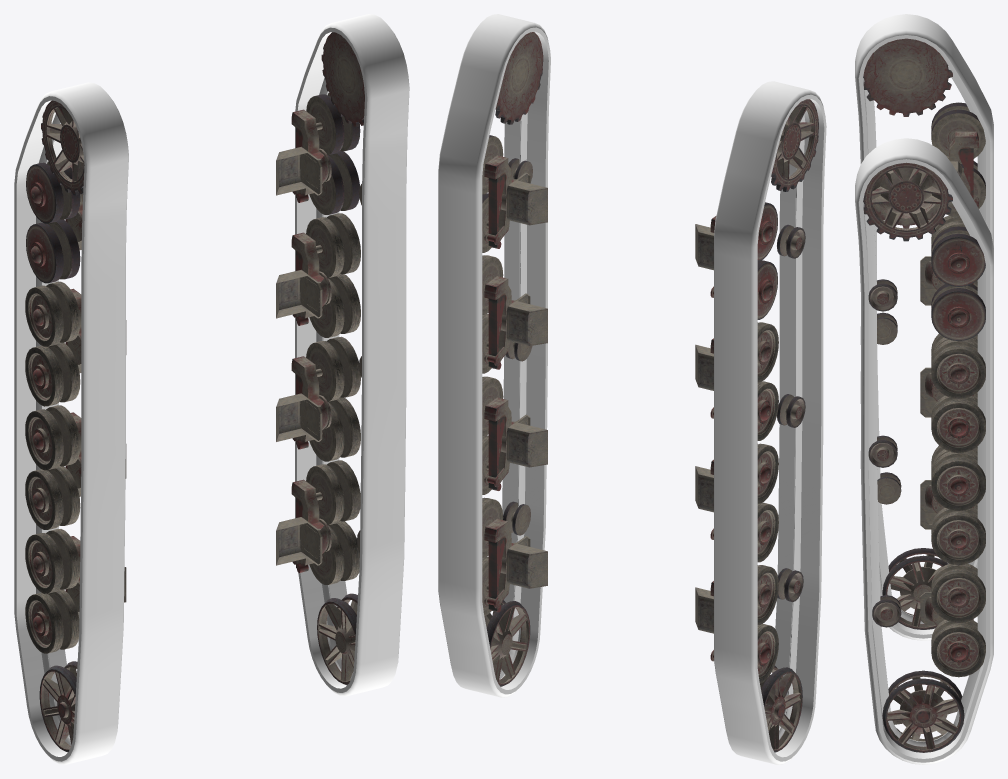
File: Chassis.glb
The picture shows the model from 3 angles, left to right: view 1: azimuth 30°, elevation 25°; view 2: azimuth 150°, elevation 25°; view 3: azimuth 270°, elevation 25°; orthographic projection. The views are drawn at different scales.
Visible parts, largest first — view 1: set_0_group_0, set_1_group_0, set_3_group_0, set_2_group_0; view 2: set_0_group_0, set_1_group_0, set_3_group_0, set_2_group_0; view 3: set_3_group_0, set_1_group_0, set_2_group_0, set_0_group_0.
Part boxes in pixels (x1,y1,x2,y2): set_0_group_0: [14, 82, 128, 764]; set_1_group_0: [295, 14, 409, 696]; set_3_group_0: [276, 32, 364, 685]; set_2_group_0: [25, 100, 126, 752]; set_0_group_0: [714, 81, 826, 764]; set_1_group_0: [438, 14, 550, 697]; set_3_group_0: [482, 32, 547, 686]; set_2_group_0: [695, 99, 818, 752]; set_3_group_0: [863, 162, 985, 752]; set_1_group_0: [855, 138, 993, 764]; set_2_group_0: [863, 38, 985, 629]; set_0_group_0: [855, 14, 993, 640].
Size of the model in its own units: 2.88 by 5.74 by 1.18.
Materials: 4 (2 with a texture image).
